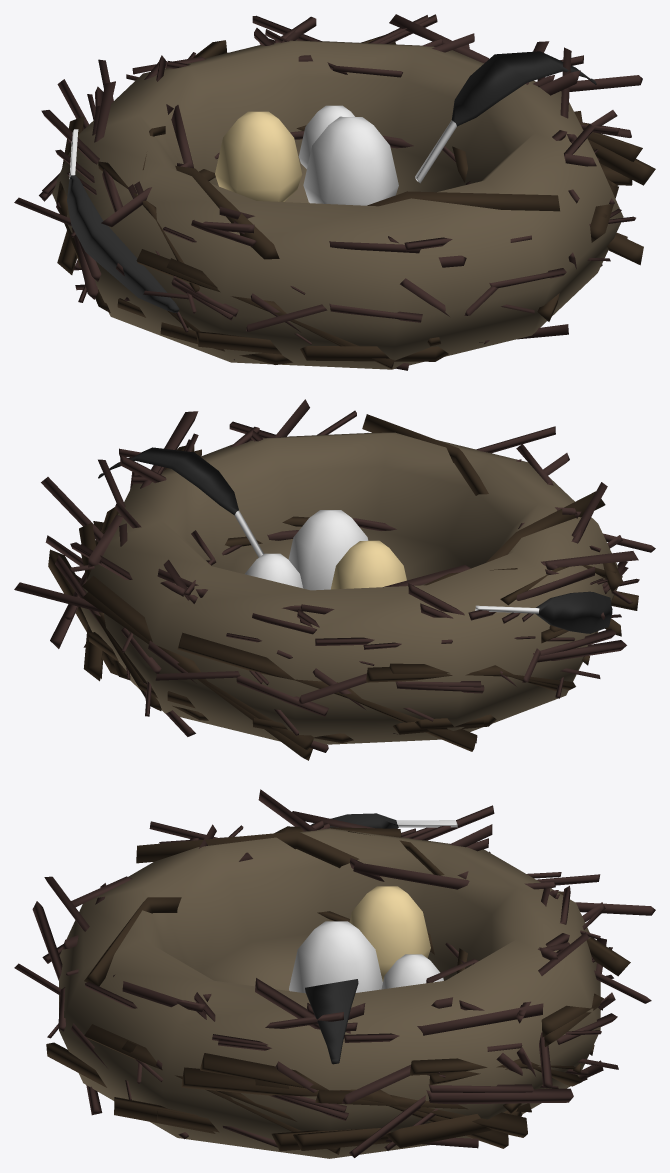
The model's file is Nest.fbx.
3 renders of one model, top to bottom at view 1: azimuth 30°, elevation 25°; view 2: azimuth 150°, elevation 25°; view 3: azimuth 270°, elevation 25°, orthographic. The views are drawn at different scales.
Parts seen in each view (by area): view 1: Torus.002, Sphere.001, Sphere.002, Plane.001, Plane, Sphere; view 2: Torus.002, Sphere.001, Plane.001, Plane, Sphere.002, Sphere; view 3: Torus.002, Sphere.001, Sphere.002, Plane.001, Sphere, Plane.
Boxes of the visible parts, x1,y1,x2,y2 form: Torus.002: (14, 14, 655, 370); Sphere.001: (303, 116, 398, 205); Sphere.002: (215, 111, 302, 201); Plane.001: (415, 51, 596, 183); Plane: (67, 129, 179, 312); Sphere: (298, 105, 354, 168); Torus.002: (14, 399, 655, 760); Sphere.001: (288, 510, 368, 590); Plane.001: (98, 447, 263, 557); Plane: (475, 591, 612, 633); Sphere.002: (330, 540, 406, 589); Sphere: (245, 553, 303, 588); Torus.002: (14, 789, 655, 1158); Sphere.001: (289, 921, 382, 993); Sphere.002: (349, 886, 430, 981); Plane.001: (305, 979, 358, 1064); Sphere: (381, 954, 443, 989); Plane: (310, 813, 457, 828).
Bounding box in the file's own units: 198 × 59.67 × 190.
